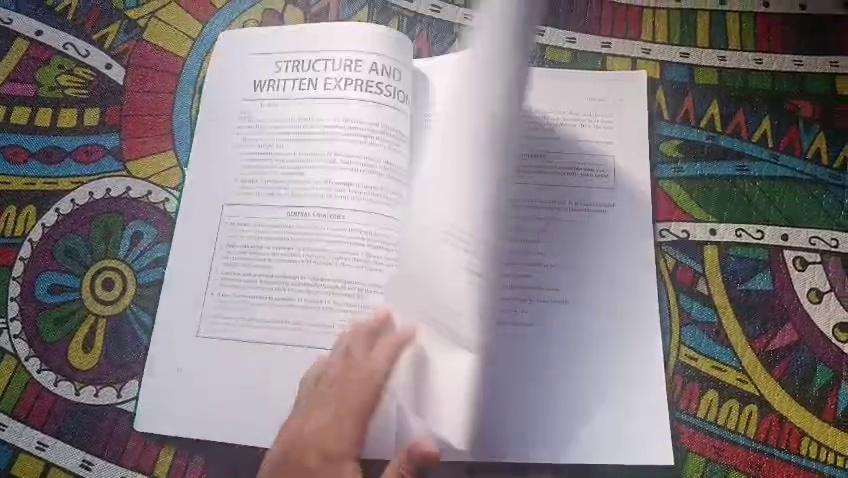Kertas: (417, 70, 646, 422), (219, 36, 420, 303)
